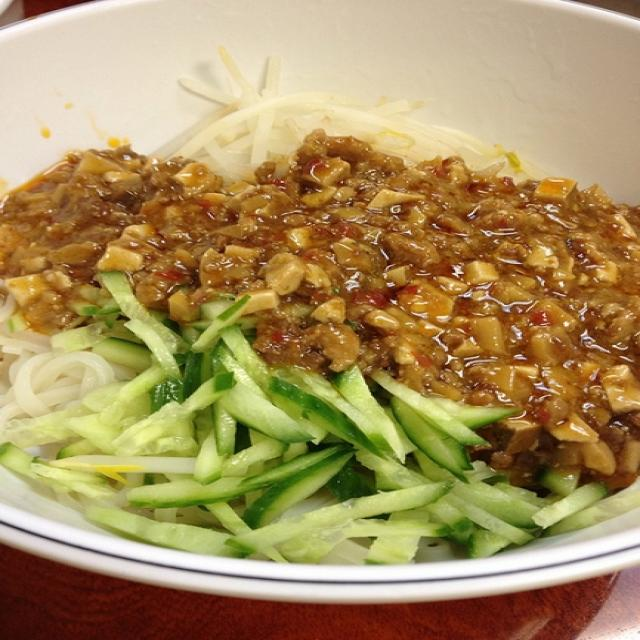面条主食: (9, 48, 632, 581)
